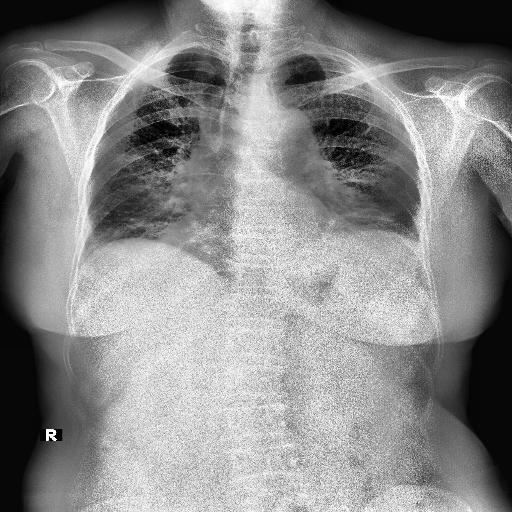0- Aortic enlargement: (253, 108, 320, 168), (242, 107, 320, 157), (250, 109, 320, 162)
10- Pleural effusion: (410, 231, 426, 252)
11- Pleural thickening: (410, 231, 426, 252)
13- Pulmonary fibrosis: (342, 200, 418, 234)
3- Cardiomegaly: (161, 228, 368, 280), (158, 217, 362, 259)
